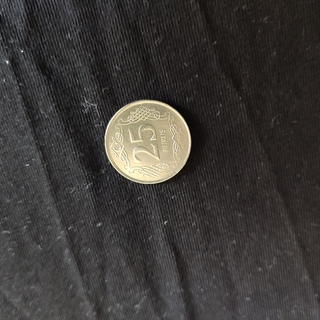25KURUS: (102, 97, 193, 186)
